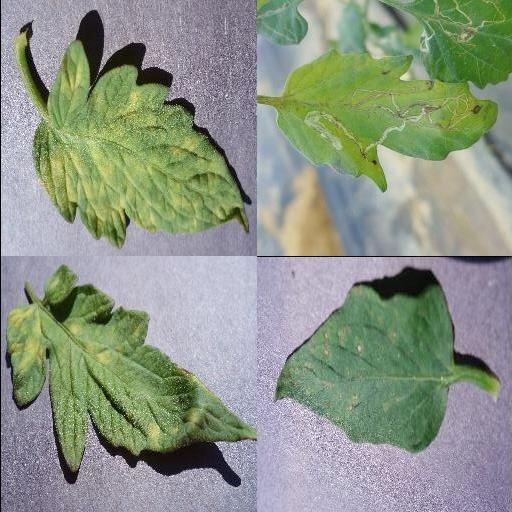Leaf Miner: (275, 49, 497, 195)
Leaf Mold: (5, 264, 255, 474), (31, 40, 249, 248)
Septoria: (269, 282, 455, 454)
